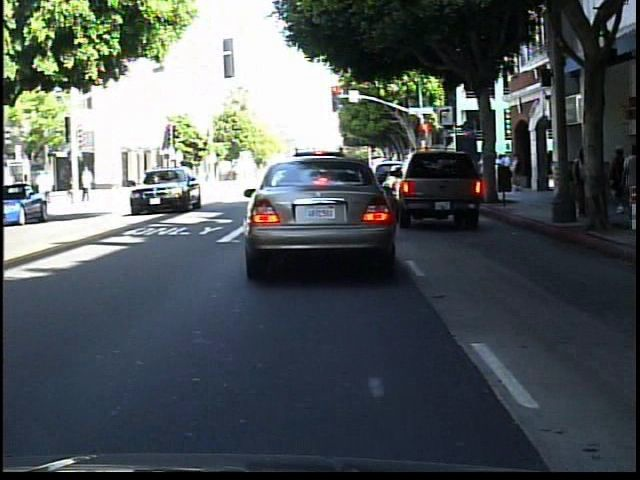person: (570, 144, 594, 226), (615, 141, 639, 221), (606, 146, 629, 214), (80, 163, 101, 206), (77, 163, 97, 197)
